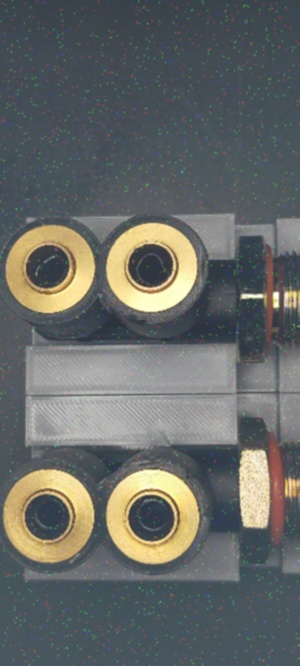bump: (124, 312, 152, 325), (196, 500, 210, 522), (180, 467, 193, 482)
off-centered: (131, 246, 171, 292), (32, 248, 76, 288)
white mark: (225, 286, 236, 298), (228, 495, 239, 506)
